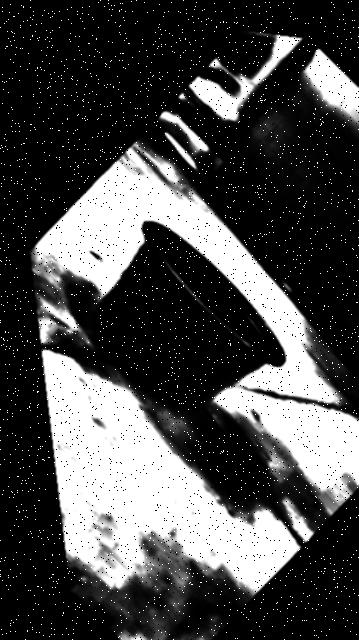pot: (97, 222, 281, 408)
